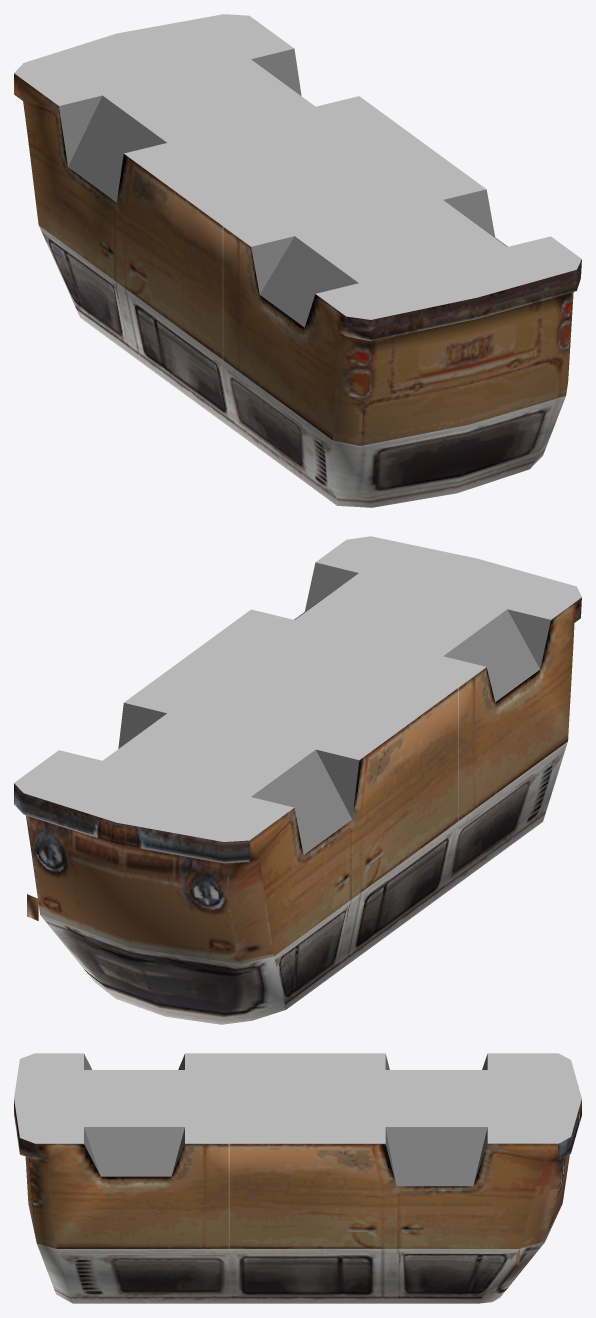
File: HAVANA_model11_clean.obj
3 views of the same model, one above another, from view 1: azimuth 30°, elevation 25°; view 2: azimuth 150°, elevation 25°; view 3: azimuth 270°, elevation 25° (orthographic). The views are drawn at different scales.
Parts seen in each view (by area): view 1: HAVANA_model11_clean; view 2: HAVANA_model11_clean; view 3: HAVANA_model11_clean.
Boxes of the visible parts, x1=… form: HAVANA_model11_clean: x1=14, y1=14, x2=581, y2=507; HAVANA_model11_clean: x1=14, y1=536, x2=581, y2=1024; HAVANA_model11_clean: x1=14, y1=1053, x2=581, y2=1303.
Size of the model in its own units: 269 by 240 by 674.
